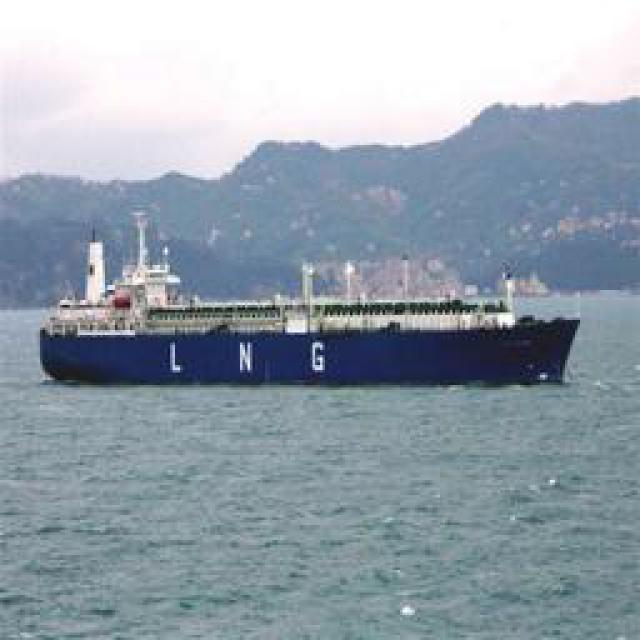Ship: (55, 220, 578, 388)
